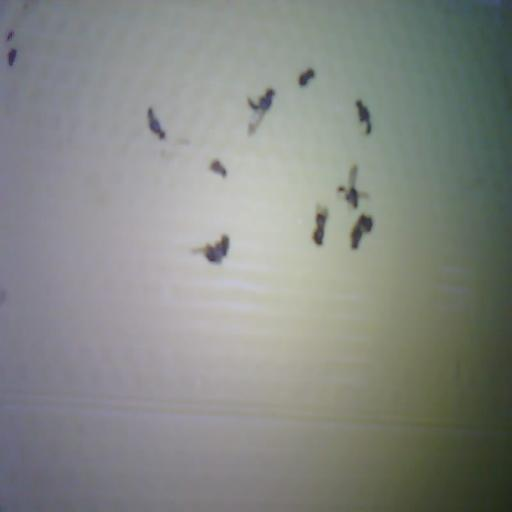Insects: (337, 165, 369, 208), (248, 88, 275, 134), (191, 234, 230, 263), (350, 213, 373, 248), (312, 207, 328, 245), (147, 108, 165, 139), (355, 100, 371, 134)
dust: (298, 67, 314, 86), (209, 160, 226, 177), (8, 48, 17, 66), (0, 288, 6, 304), (6, 29, 13, 40)
